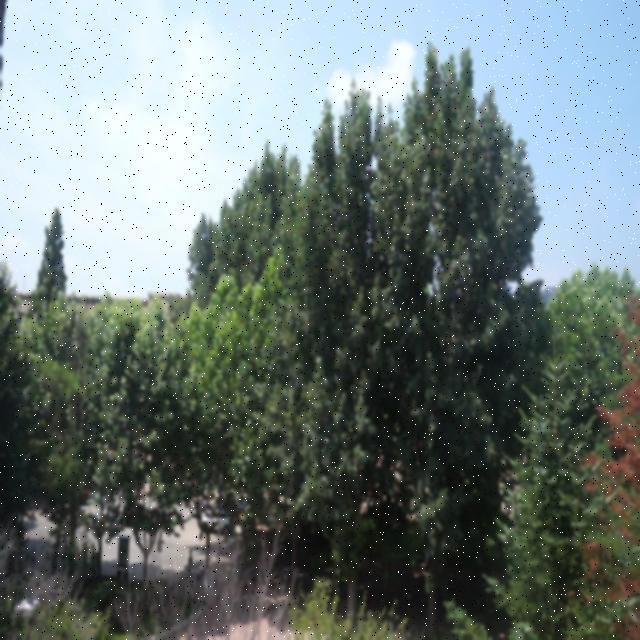UAV: (15, 599, 40, 616)
